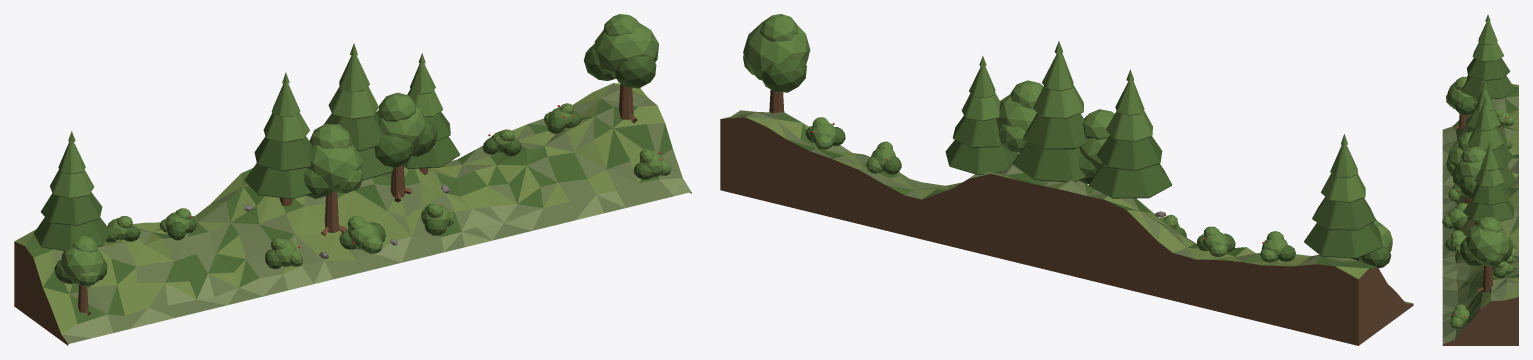
Rendered from Hills Backdrop.fbx.
3 views of the same model, side by side, from view 1: azimuth 30°, elevation 25°; view 2: azimuth 150°, elevation 25°; view 3: azimuth 270°, elevation 25° (orthographic). The views are drawn at different scales.
Visible parts, largest first — view 1: Hills Backdrop; view 2: Hills Backdrop; view 3: Hills Backdrop.
Part boxes in pixels (box(x1,y1,x2,y2)): Hills Backdrop: box(14, 14, 691, 345); Hills Backdrop: box(720, 14, 1413, 345); Hills Backdrop: box(1442, 14, 1518, 345).
Size of the model in its own units: 14 by 4.38 by 2.12.
